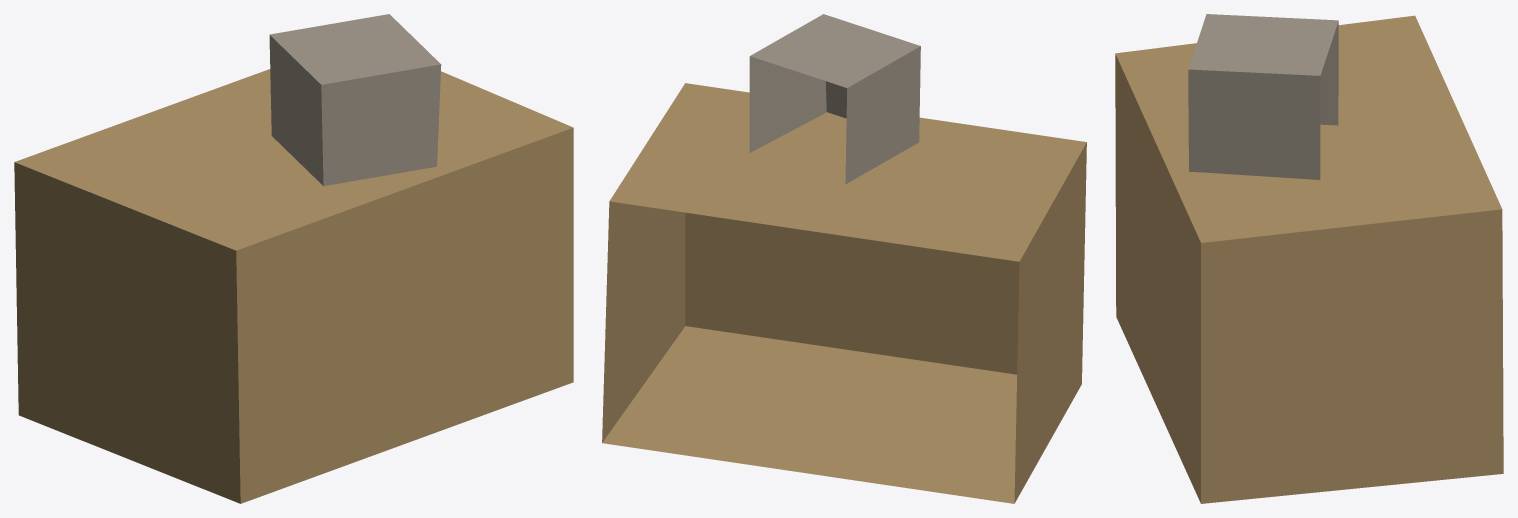
The model's file is MSH_QuestObject_box_02.fbx.
The picture shows the model from 3 angles, left to right: view 1: azimuth 30°, elevation 25°; view 2: azimuth 150°, elevation 25°; view 3: azimuth 270°, elevation 25°; orthographic projection. The views are drawn at different scales.
Visible parts, largest first — view 1: MSH_QuestObject_box_02; view 2: MSH_QuestObject_box_02; view 3: MSH_QuestObject_box_02.
Part boxes in pixels (box(x1,y1,x2,y2)): MSH_QuestObject_box_02: box(14, 14, 573, 503); MSH_QuestObject_box_02: box(602, 14, 1086, 503); MSH_QuestObject_box_02: box(1115, 14, 1503, 503).
Bounding box in the file's own units: 1.56 × 1.17 × 1.12.
